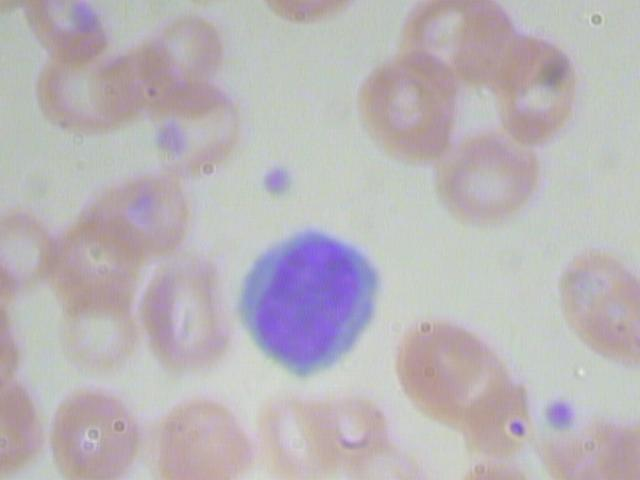Platelets: (257, 162, 300, 202), (541, 394, 582, 435)
WBC: (221, 223, 386, 387)
